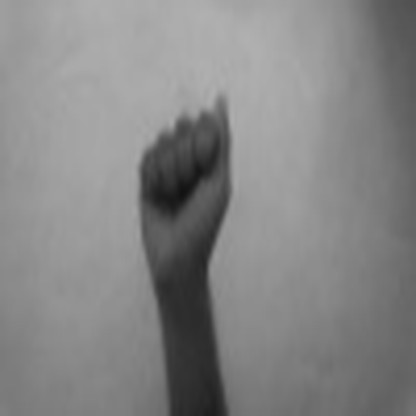a: (122, 82, 238, 282)
